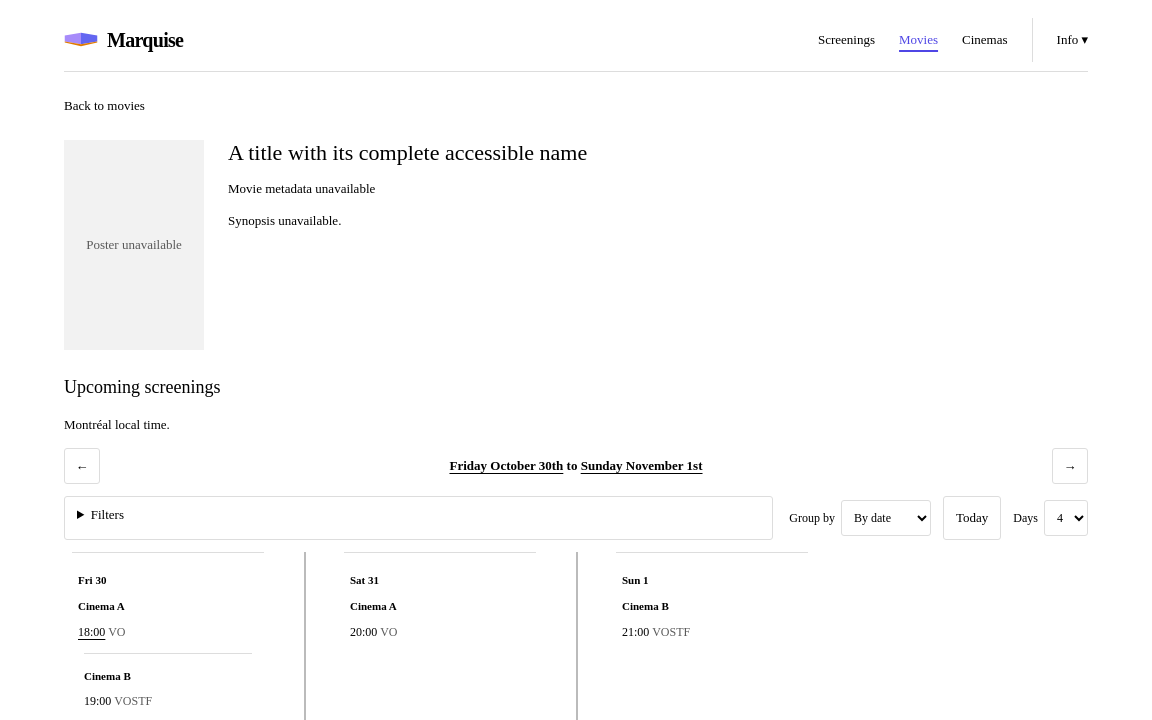
Test: moves through the loaded screening dates
Expected: the link "18:00" is shown, [78,625,105,639]
Click the button named "Next dates" at (1070, 466), box [1052,448,1088,484]
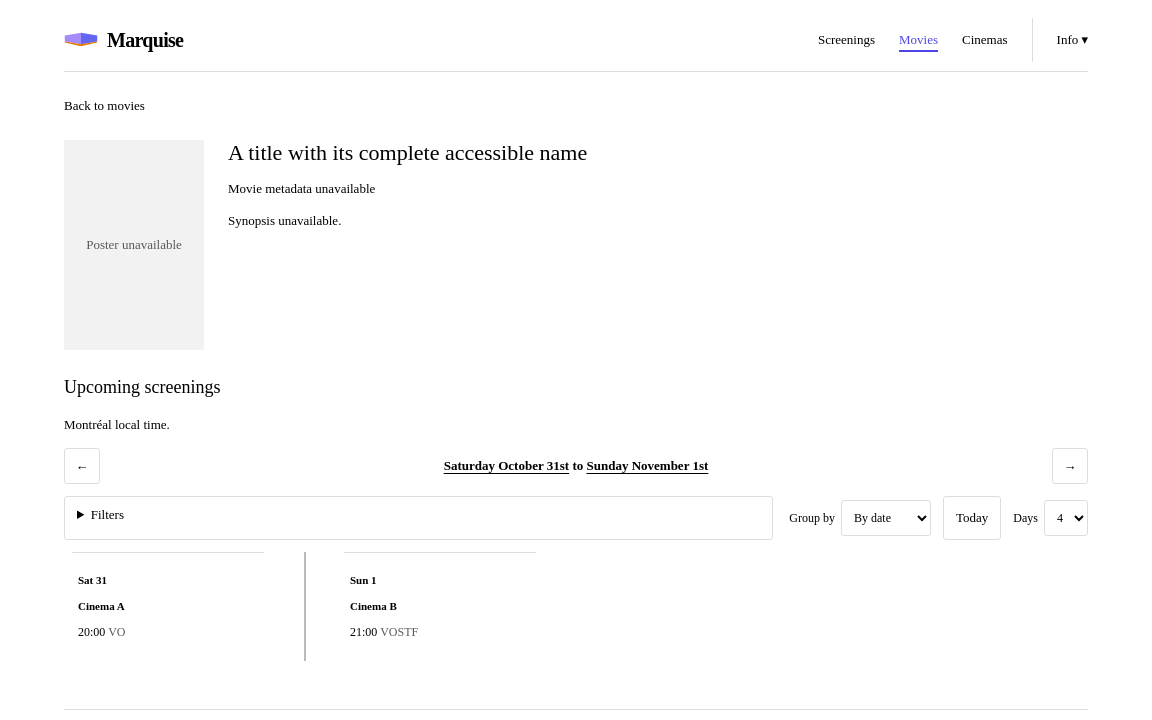
Expected: the text "20:00" is shown, [78,625,105,639]
Now the link "18:00" is gone
